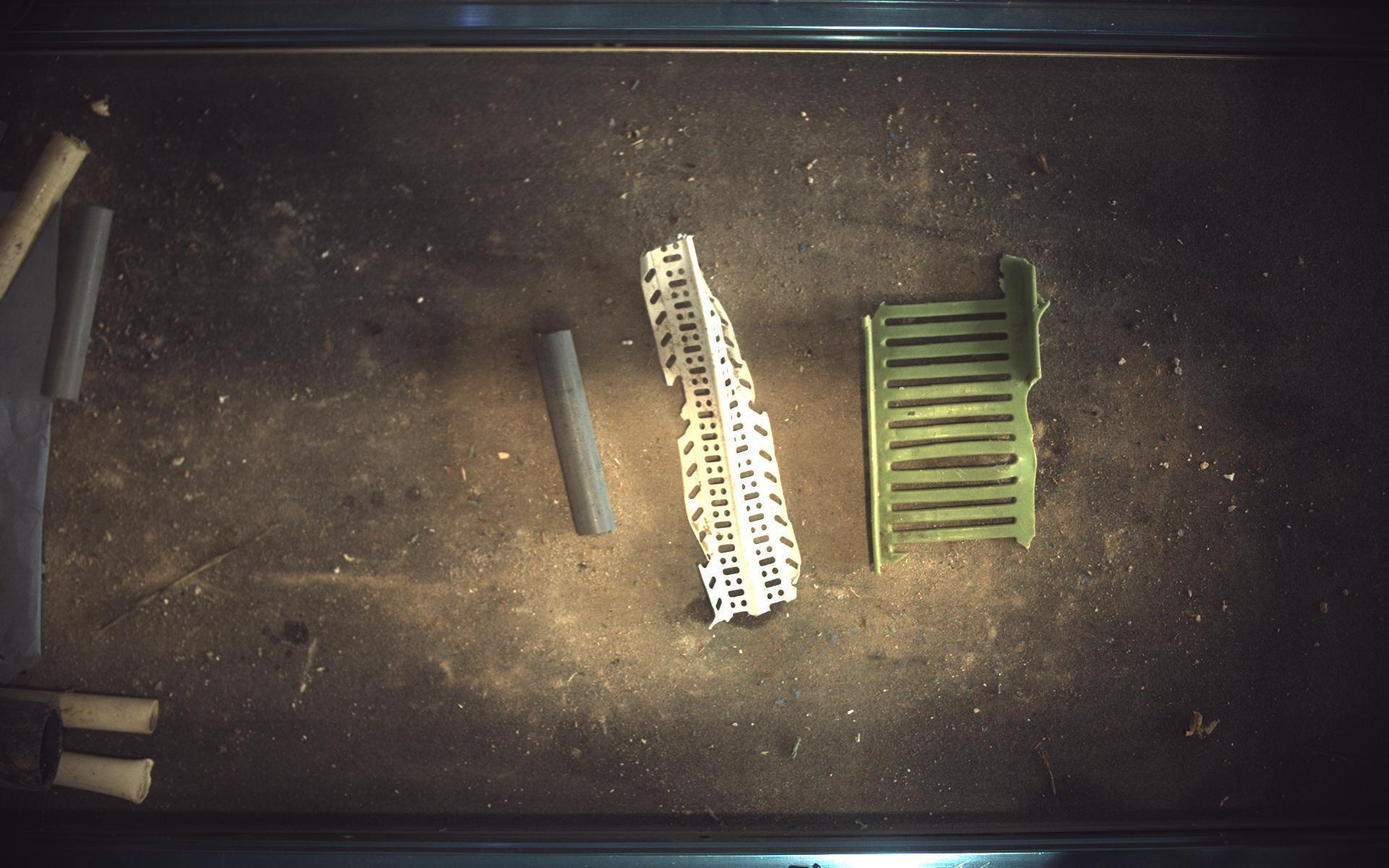pipes: (536, 329, 616, 536), (1, 131, 88, 298), (40, 204, 111, 401), (1, 689, 158, 736), (1, 699, 61, 792), (52, 753, 153, 806)
plastic: (641, 234, 802, 629), (866, 255, 1050, 573)
